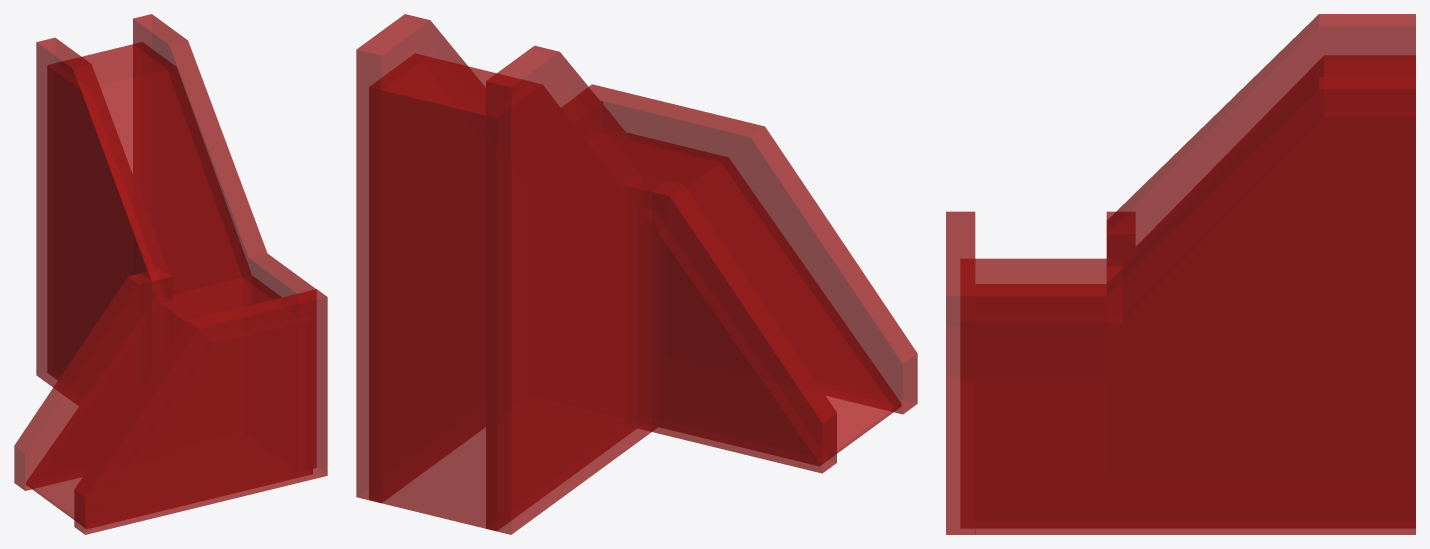
File: SM_Bld_Stairs_Corner_Edges_01_Collision.fbx
The picture shows the model from 3 angles, left to right: view 1: azimuth 30°, elevation 25°; view 2: azimuth 150°, elevation 25°; view 3: azimuth 270°, elevation 25°; orthographic projection. The views are drawn at different scales.
Visible parts, largest first — view 1: SM_Bld_Stairs_Corner_Edges_01_Collision; view 2: SM_Bld_Stairs_Corner_Edges_01_Collision; view 3: SM_Bld_Stairs_Corner_Edges_01_Collision.
Boxes of the visible parts, x1=… form: SM_Bld_Stairs_Corner_Edges_01_Collision: x1=14, y1=14, x2=327, y2=534; SM_Bld_Stairs_Corner_Edges_01_Collision: x1=356, y1=14, x2=917, y2=534; SM_Bld_Stairs_Corner_Edges_01_Collision: x1=946, y1=14, x2=1415, y2=534.
Size of the model in its own units: 411 by 540 by 516.
